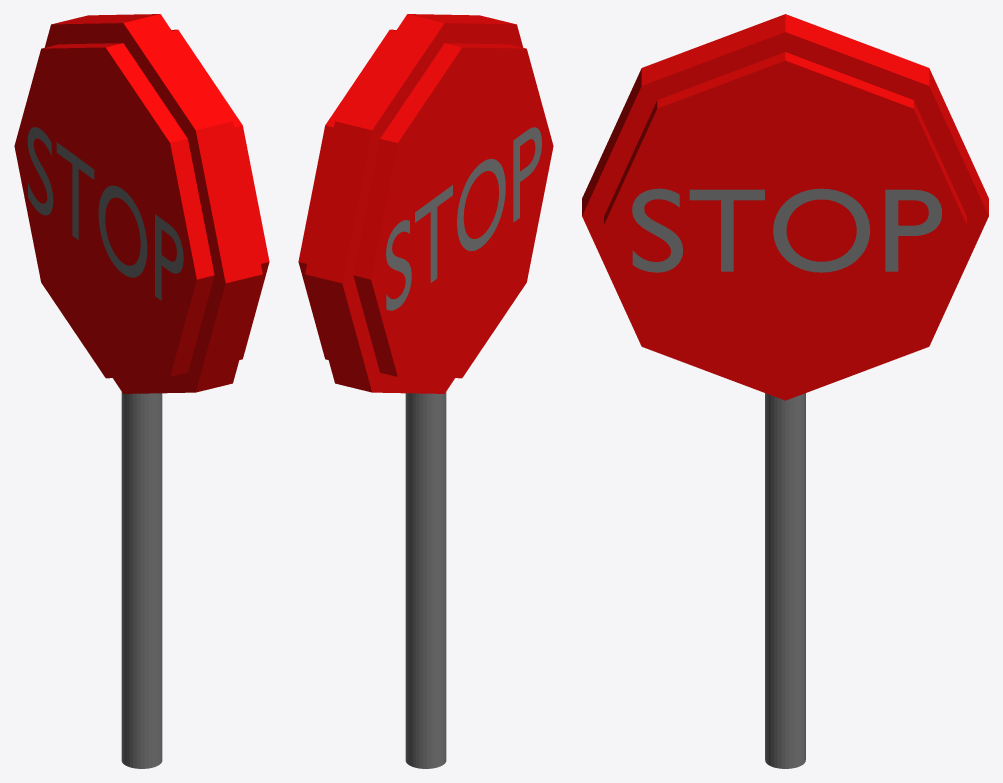
The model's file is StopSign.fbx.
The picture shows the model from 3 angles, left to right: view 1: azimuth 30°, elevation 25°; view 2: azimuth 150°, elevation 25°; view 3: azimuth 270°, elevation 25°; orthographic projection.
Visible parts, largest first — view 1: Cylinder.001; view 2: Cylinder.001; view 3: Cylinder.001.
Boxes of the visible parts, left/top/right/bottom form: Cylinder.001: left=14, top=14, right=269, bottom=768; Cylinder.001: left=298, top=14, right=553, bottom=768; Cylinder.001: left=582, top=14, right=988, bottom=768.
Size of the model in its own units: 42 by 400 by 200.
